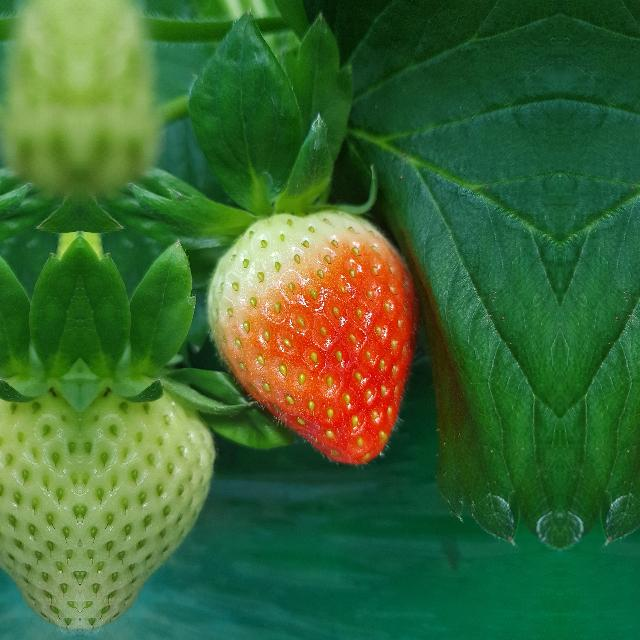Health_25: (81, 352, 215, 628), (0, 352, 79, 627)
Health_75: (206, 212, 414, 466)
